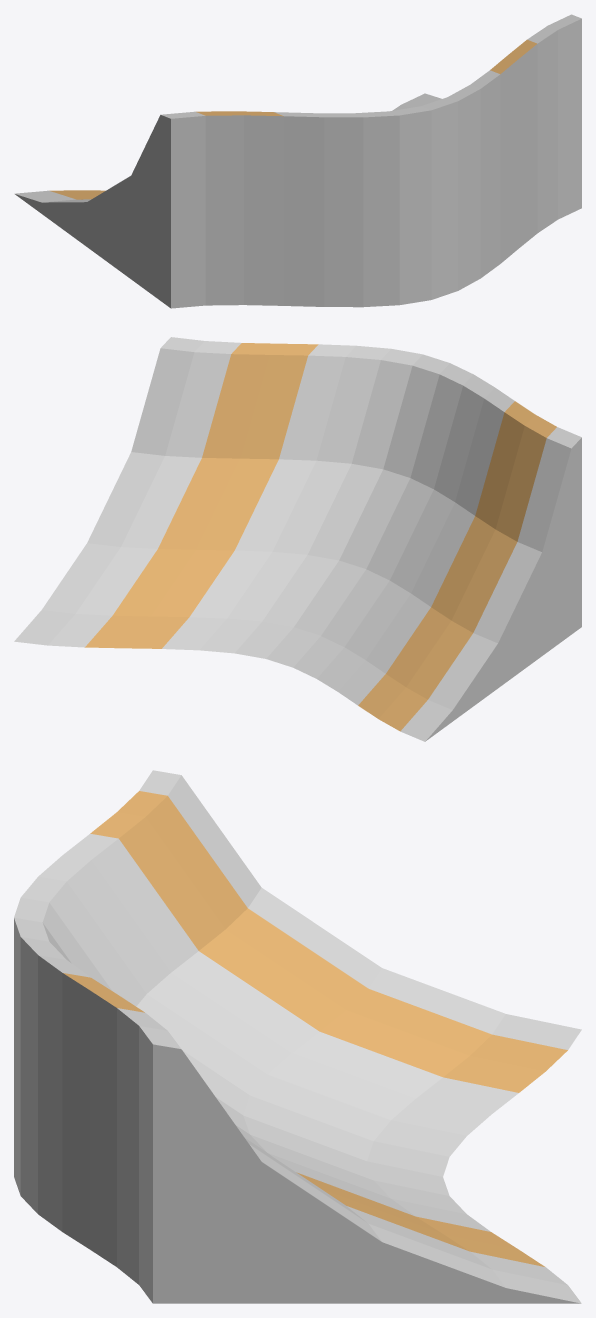
Rendered from Rampa001.fbx.
3 renders of one model, top to bottom at view 1: azimuth 30°, elevation 25°; view 2: azimuth 150°, elevation 25°; view 3: azimuth 270°, elevation 25°, orthographic. The views are drawn at different scales.
Parts seen in each view (by area): view 1: Cube.019; view 2: Cube.019; view 3: Cube.019.
Boxes of the visible parts, left/top/right/bottom form: Cube.019: left=14, top=14, right=581, bottom=308; Cube.019: left=14, top=337, right=581, bottom=741; Cube.019: left=14, top=770, right=581, bottom=1303.
Bounding box in the file's own units: 432 × 196 × 378.
